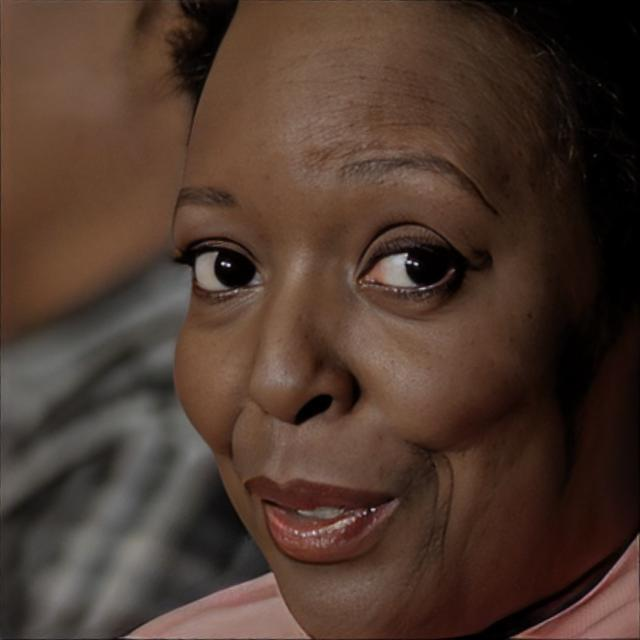happy: (168, 0, 640, 638)
